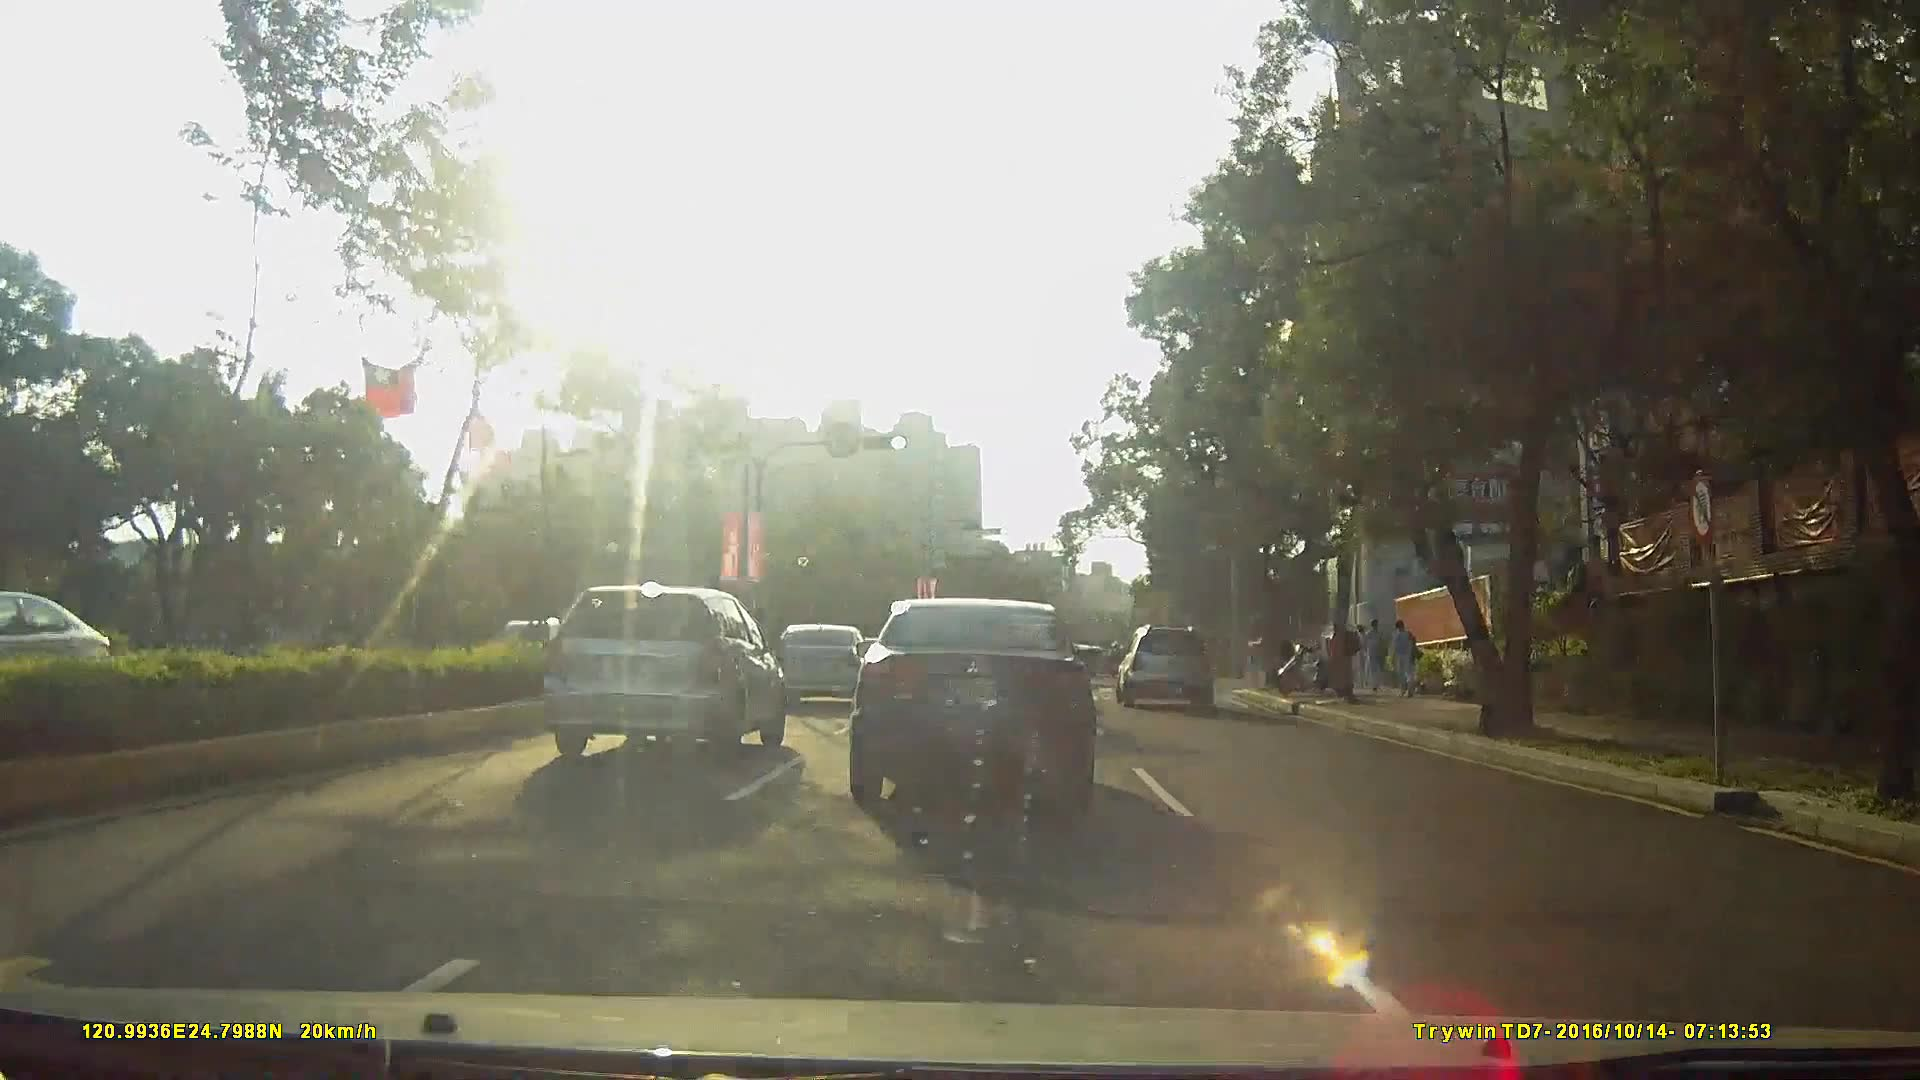pedestrian: (1390, 616, 1422, 700), (1366, 614, 1394, 694)
vehicle: (845, 593, 1094, 812), (538, 582, 787, 761), (1, 585, 120, 704), (1113, 622, 1224, 711), (773, 619, 877, 710)
